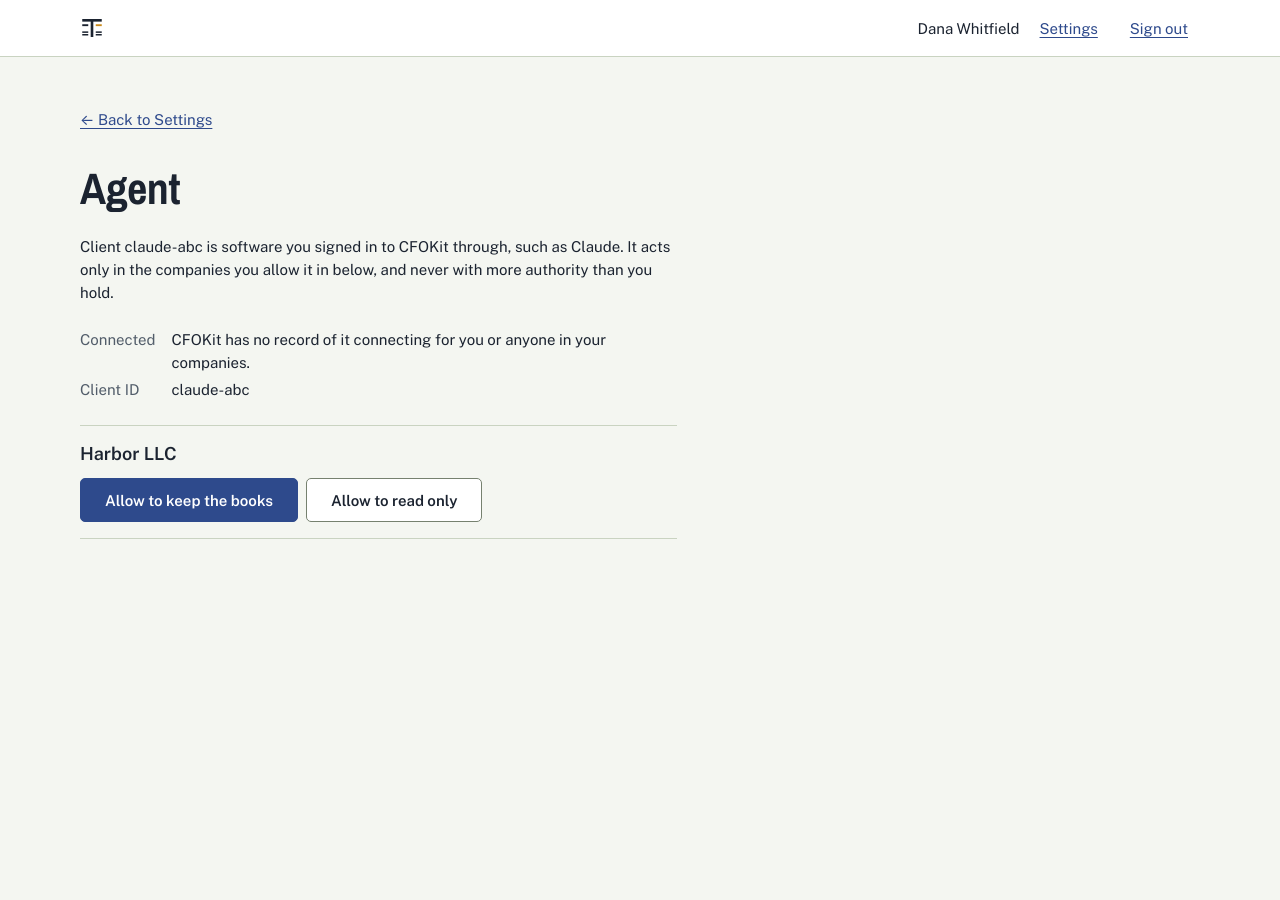
Test: once allowed, the page says to go back to Claude
What coordinates should you click on to do the following:
click the button "Allow to keep the books"
I would click on:
 (189, 500)
Its box is top-left (80, 478), bottom-right (298, 522).
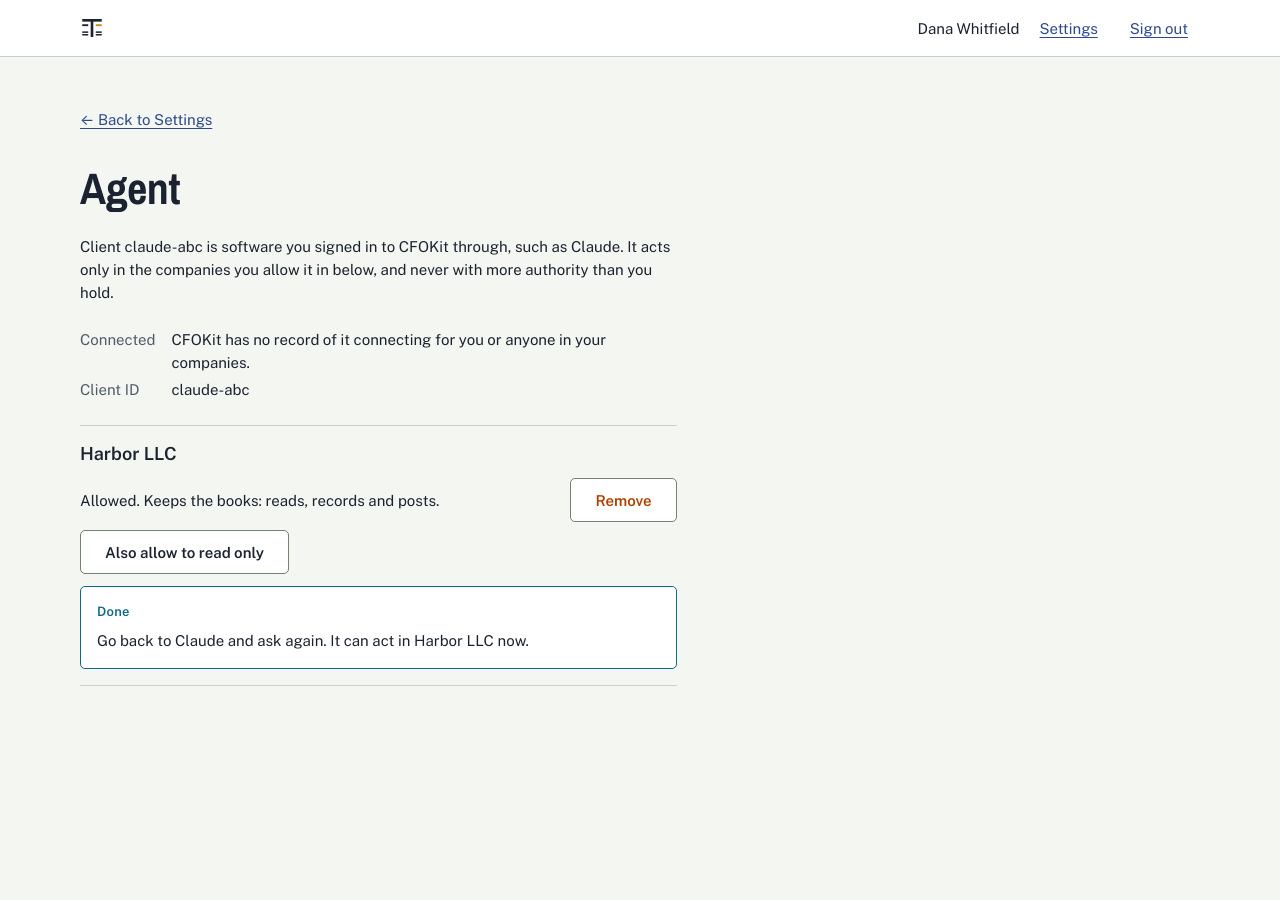
Result: the text "Go back to Claude and ask again" is shown at top-left (97, 632), bottom-right (414, 649)
